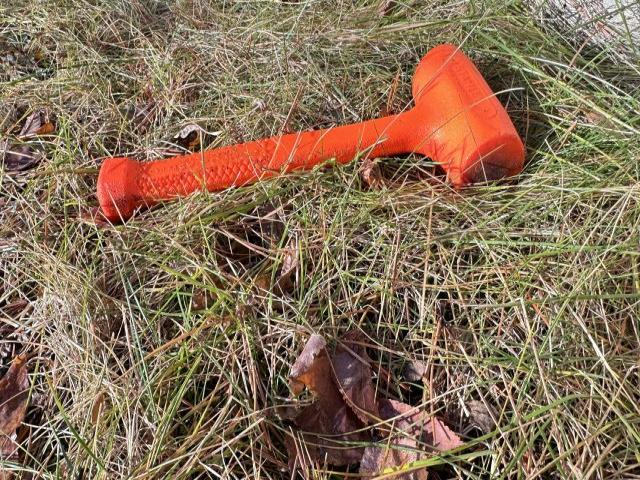hammer: (96, 42, 528, 220)
